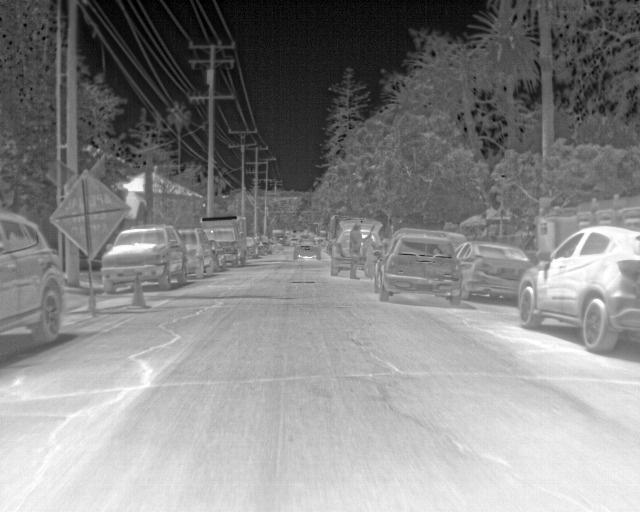bicycle: (515, 220, 639, 354), (1, 210, 64, 343), (372, 230, 464, 307), (102, 223, 183, 295), (454, 238, 530, 303), (179, 226, 215, 280), (291, 236, 324, 262), (332, 227, 349, 273), (244, 235, 260, 259)
empty: (346, 221, 366, 281)
